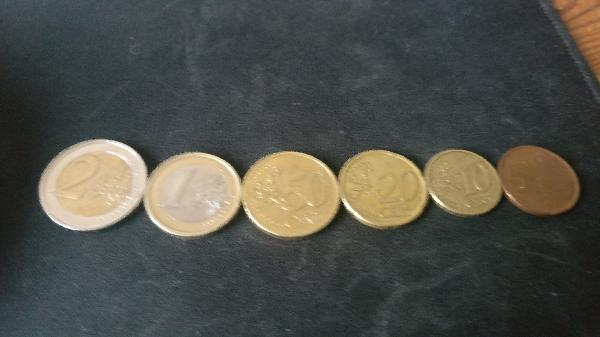Fifty Cent: (241, 148, 340, 240)
Five Cent: (498, 142, 584, 214)
One Euro: (145, 153, 239, 237)
Ten Cent: (424, 145, 503, 220)
Twenty Cent: (339, 146, 429, 230)
Two Euro: (35, 138, 147, 237)
